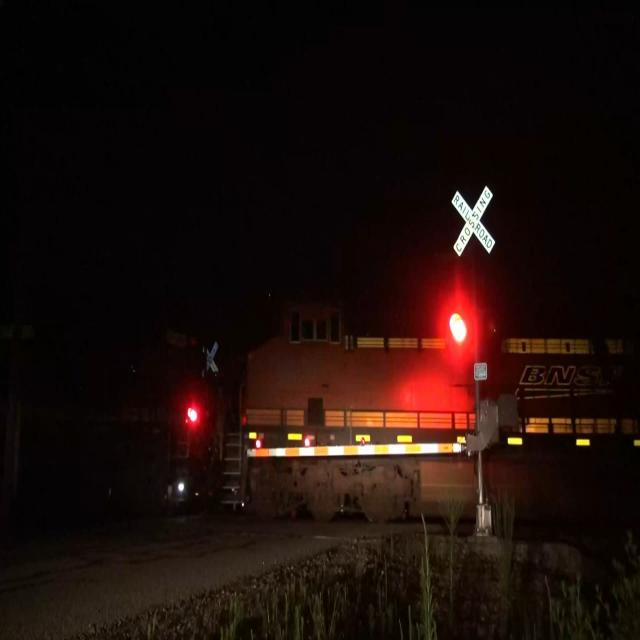locomotive: (201, 266, 640, 544), (0, 251, 216, 536)
